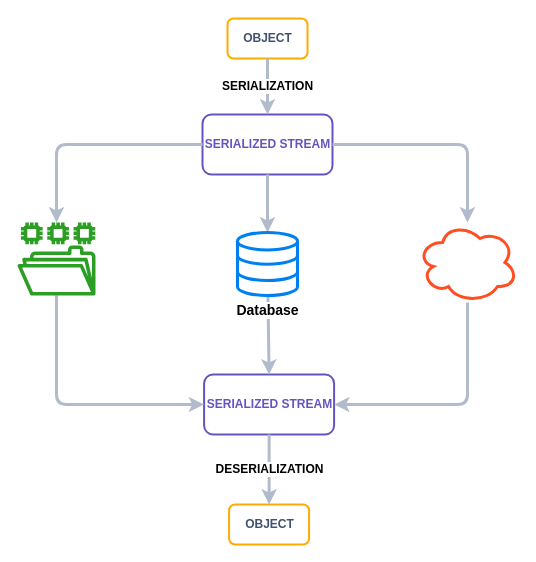
The diagram is 536 pixels wide and 562 high, and some of its shapes have lost their labels. Here are the shapes that lost their labels. From the top down, the box of each, then its label:
(17, 222, 95, 295): Filesystem
(416, 220, 518, 304): Internet
